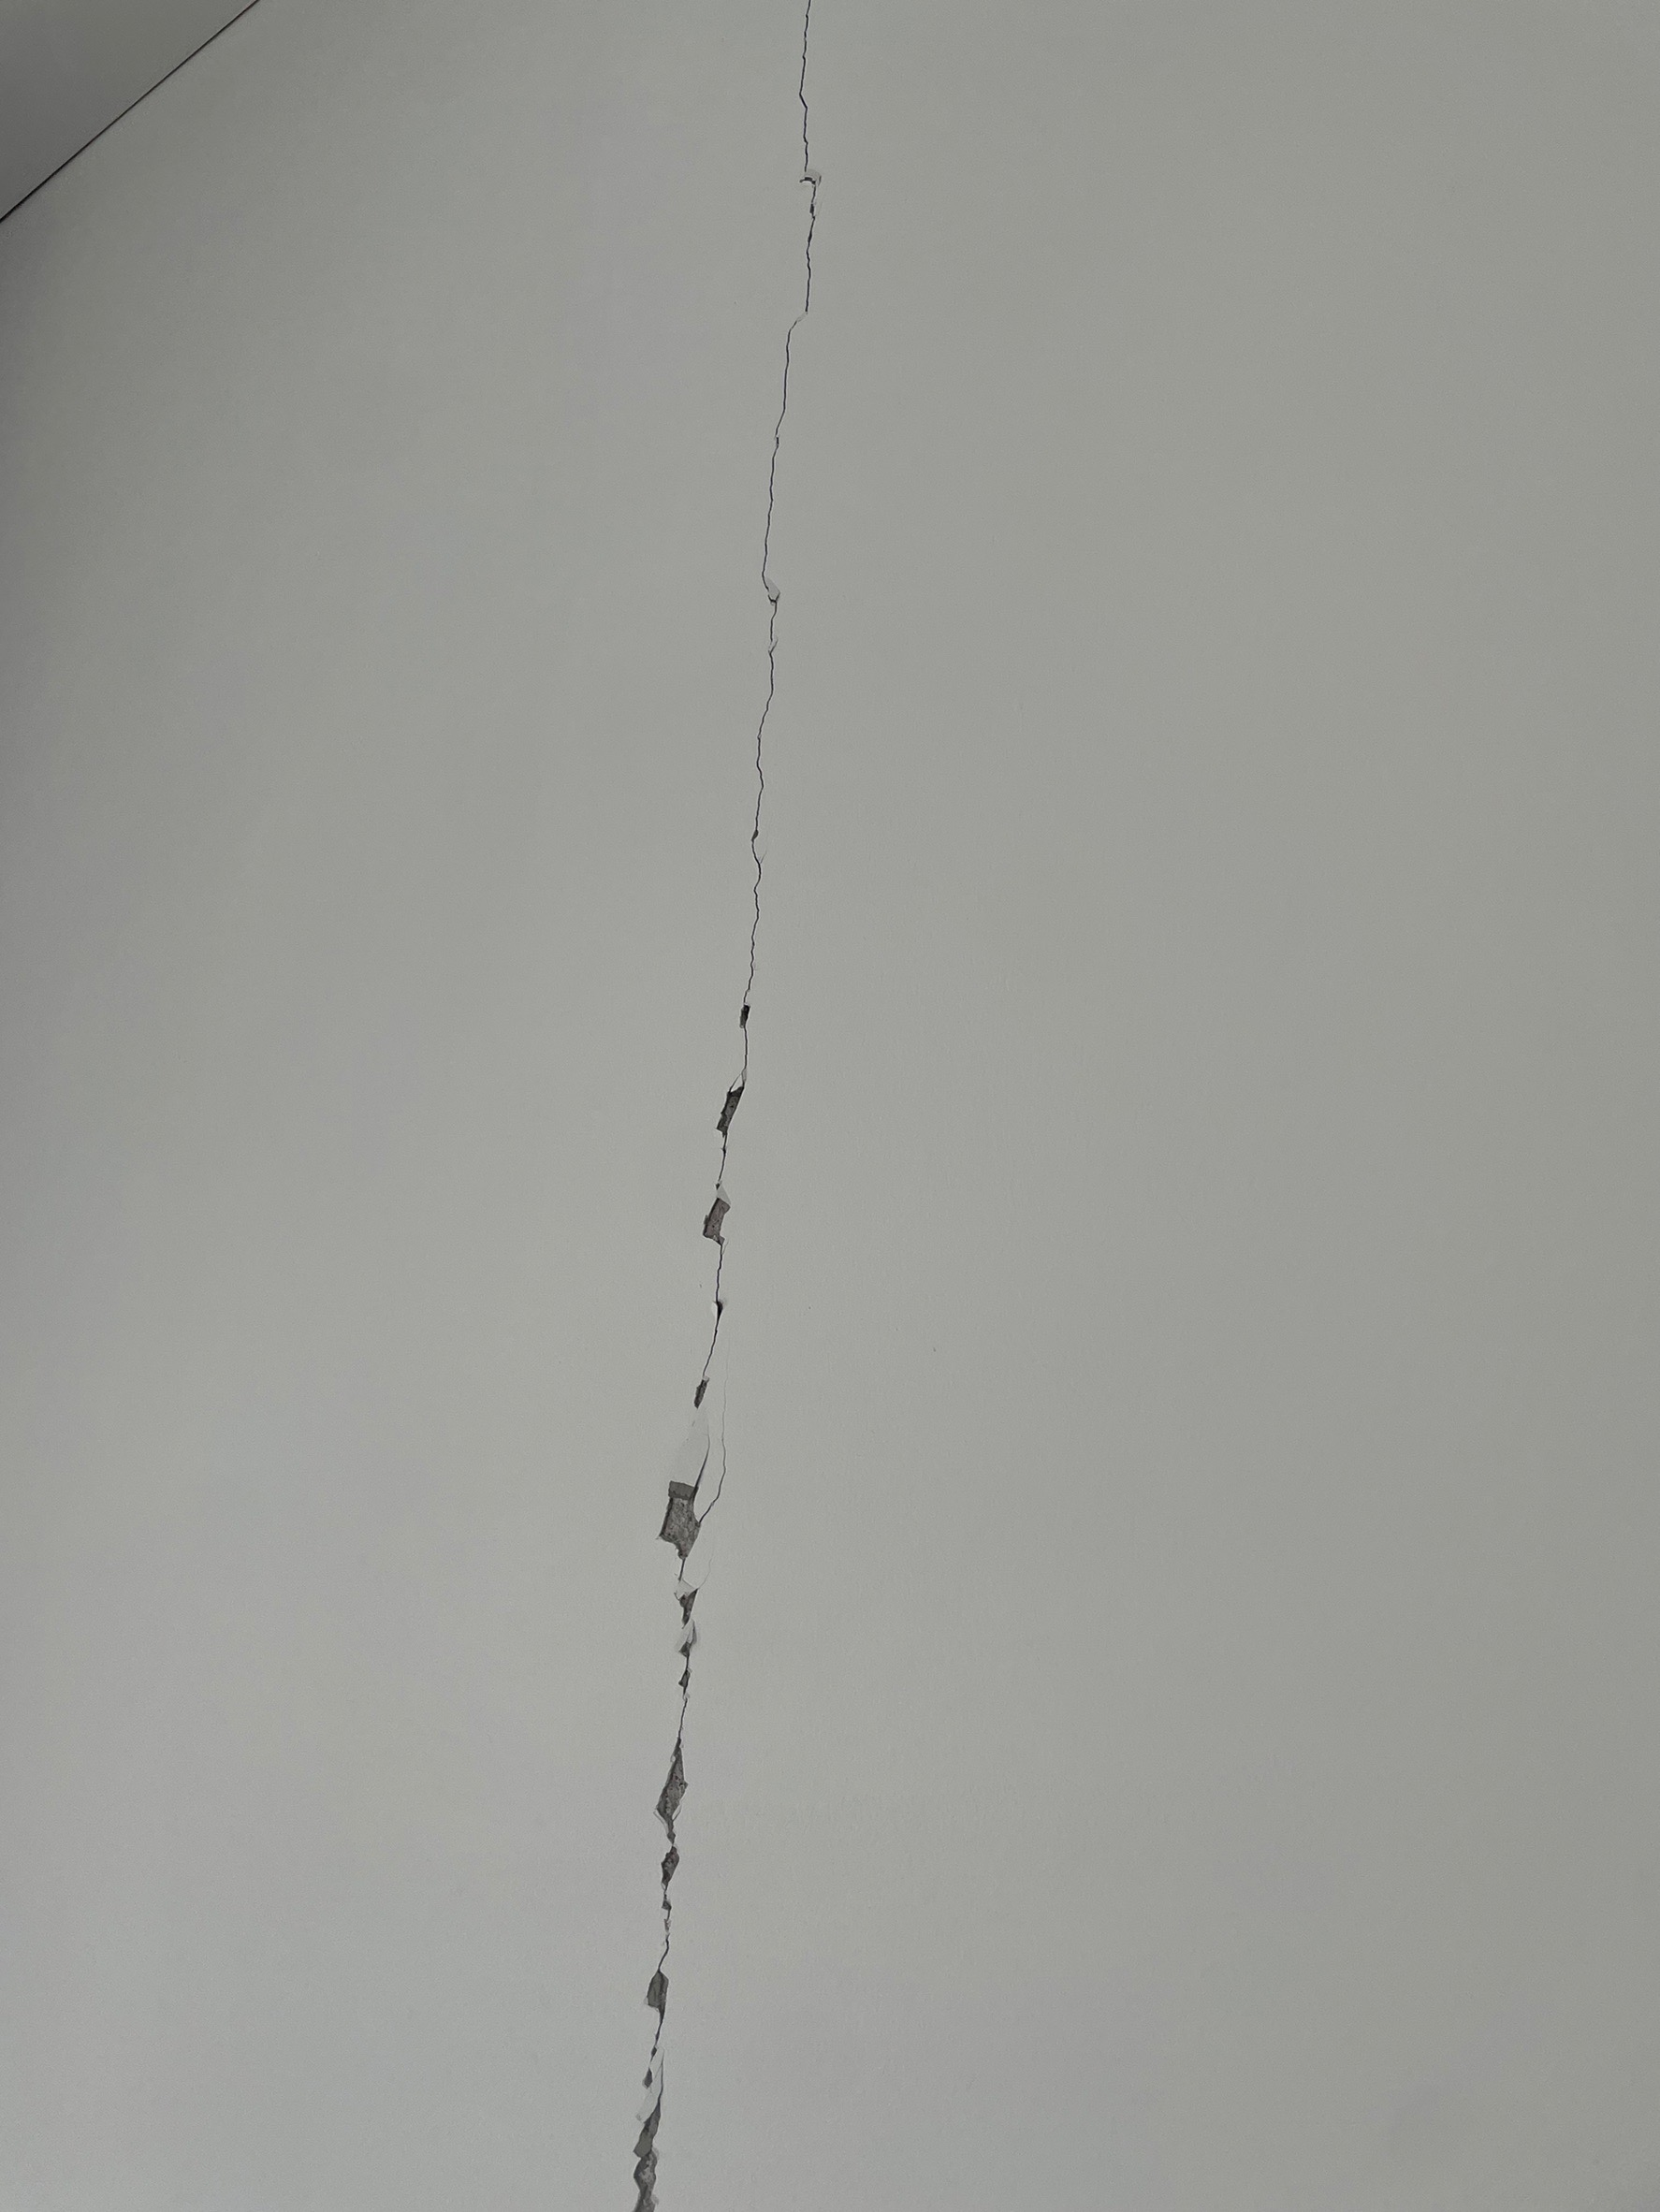Low: (588, 2, 942, 2200)
